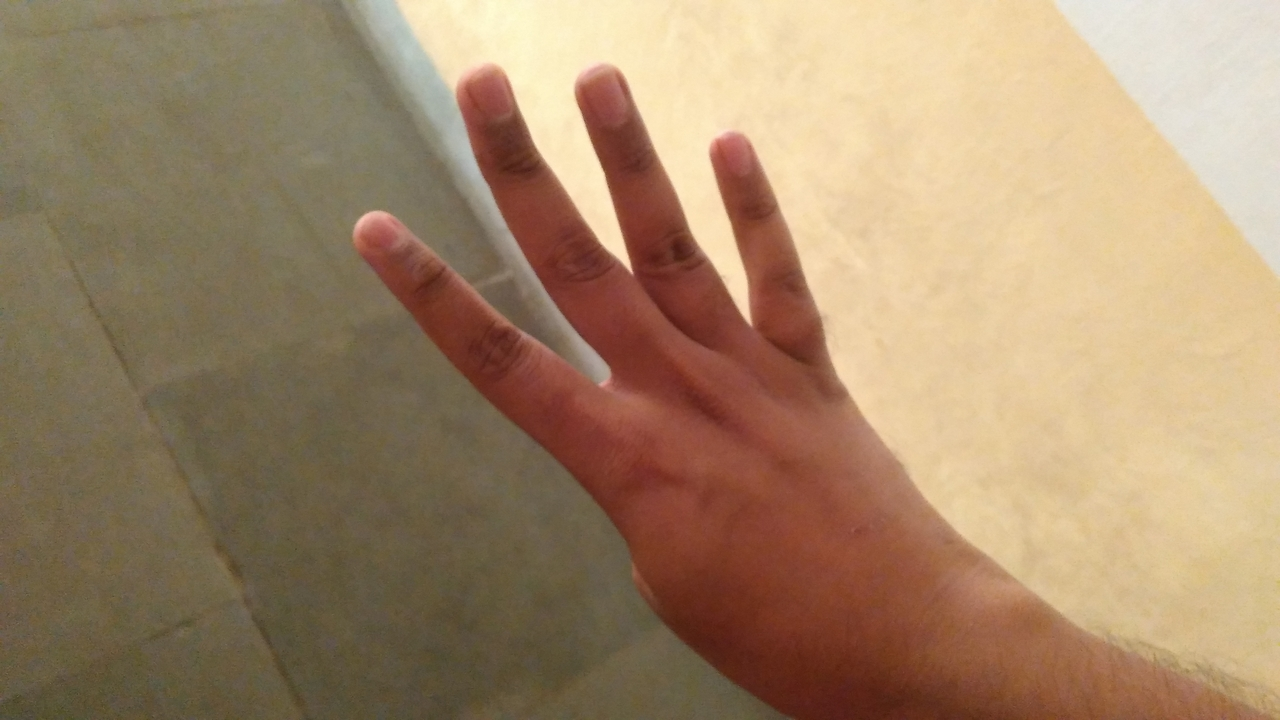fingertip: (342, 202, 408, 260), (704, 130, 770, 184), (574, 60, 632, 120), (456, 64, 516, 116)
